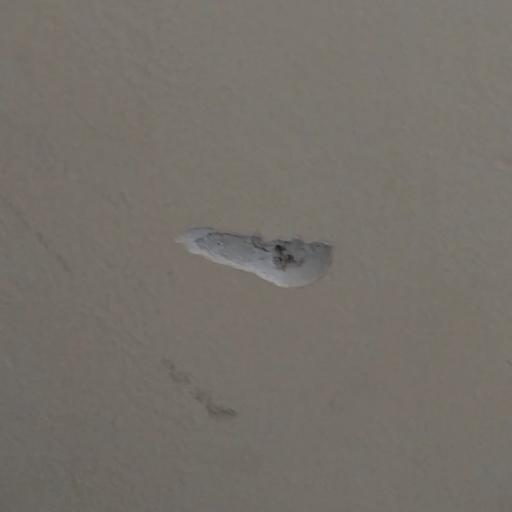peeling: (165, 202, 348, 299)
